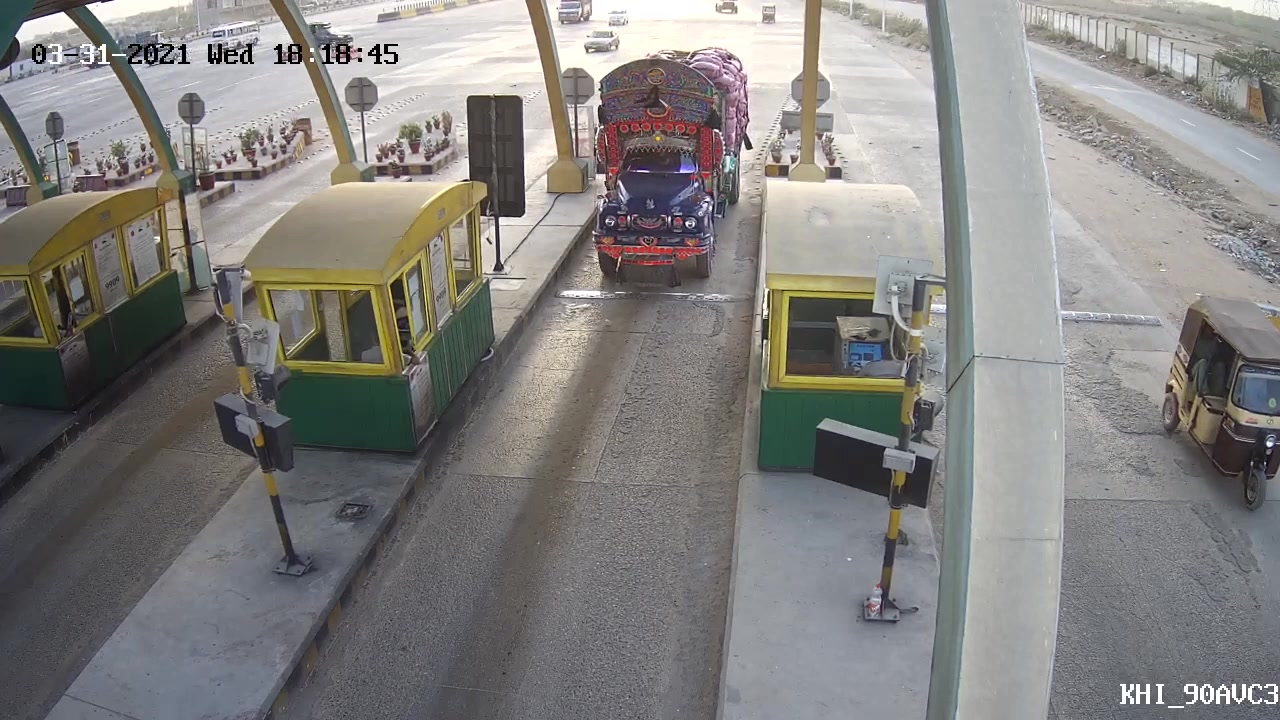F5: (586, 46, 750, 292)
